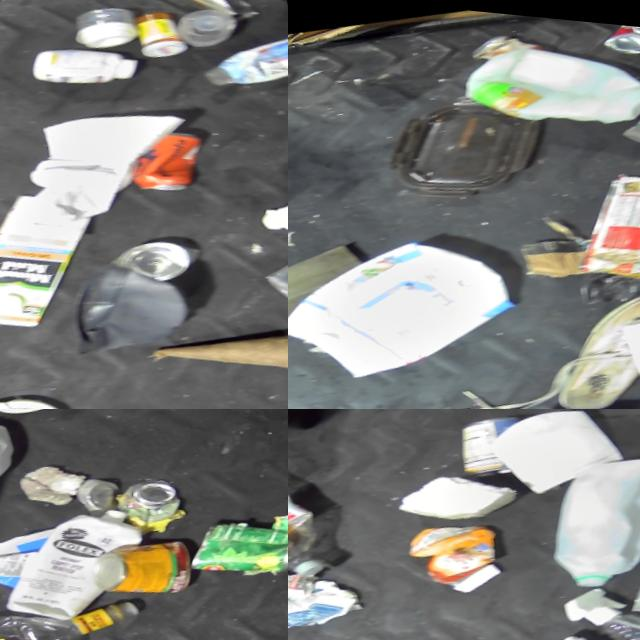can: (116, 105, 235, 200), (90, 522, 205, 605), (184, 493, 288, 583), (110, 211, 211, 296), (114, 463, 192, 532), (464, 17, 543, 61), (74, 464, 129, 515), (596, 14, 640, 56)
milk_jug: (288, 201, 535, 403), (453, 8, 640, 149), (535, 436, 640, 594)
non_white_jug: (559, 130, 640, 299)
plastic_bottle: (185, 16, 288, 92), (288, 441, 332, 600)
